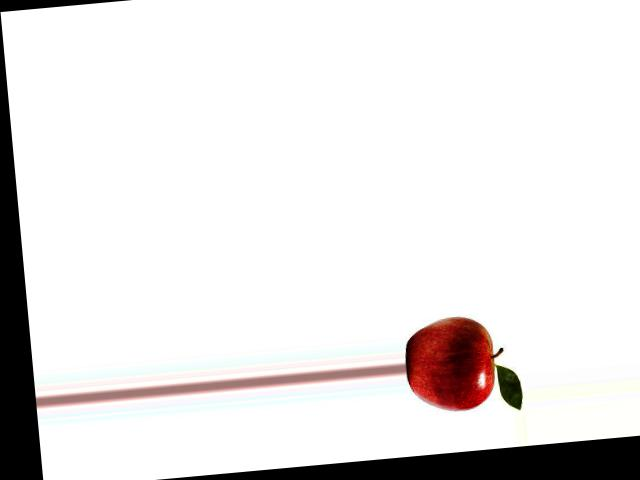apple: (401, 311, 504, 420)
